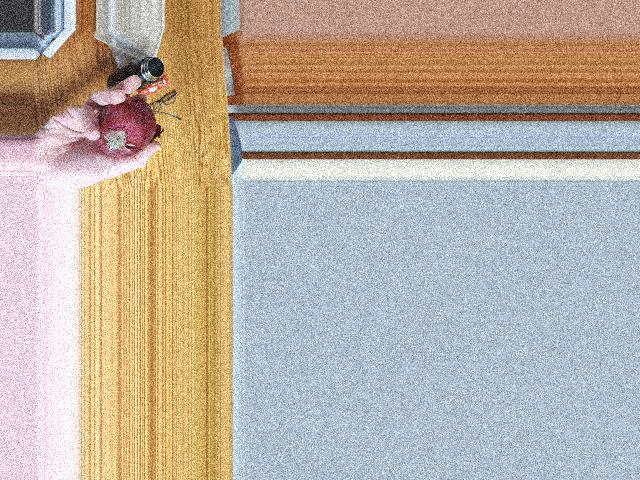onion: (94, 103, 154, 157)
